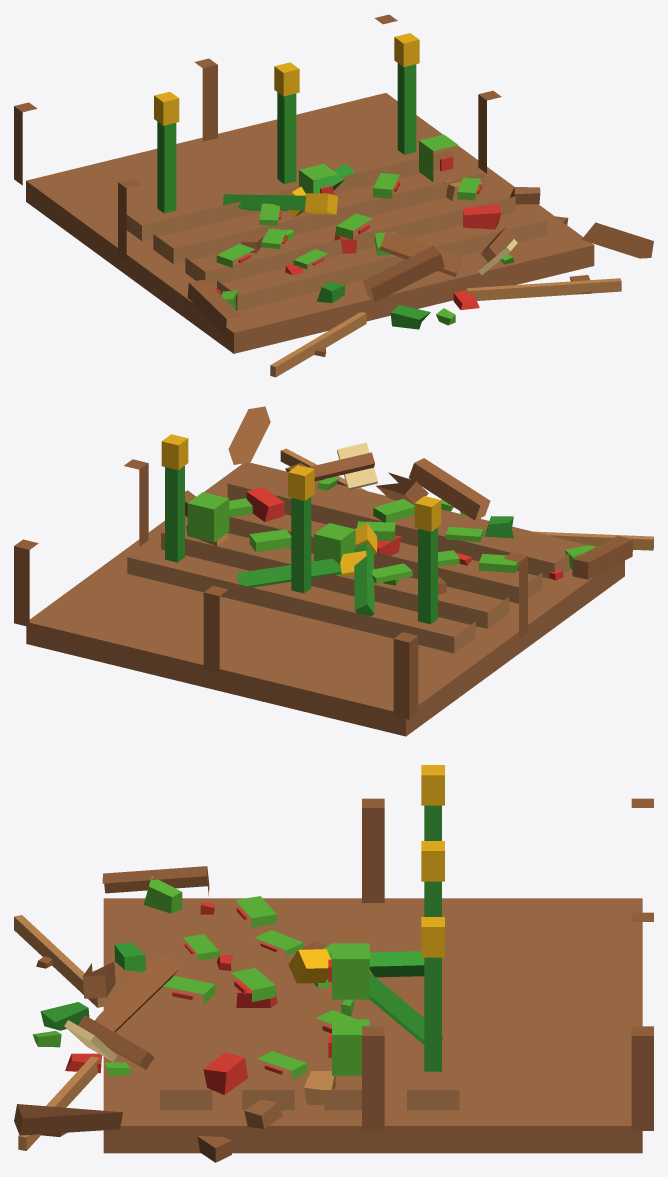
The model's file is field_t2_v4_dmg1.glb.
The picture shows the model from 3 angles, top to bottom: view 1: azimuth 30°, elevation 25°; view 2: azimuth 150°, elevation 25°; view 3: azimuth 270°, elevation 25°; orthographic projection. The views are drawn at different scales.
Visible parts, largest first — view 1: field_t2_v4_dmg1; view 2: field_t2_v4_dmg1; view 3: field_t2_v4_dmg1.
Part boxes in pixels (x1,y1,x2,y2): field_t2_v4_dmg1: (14,14,653,377); field_t2_v4_dmg1: (14,406,653,736); field_t2_v4_dmg1: (14,765,653,1162).
Size of the model in its own units: 0.7925 by 0.285 by 0.855.
1 material, 1 textured.
